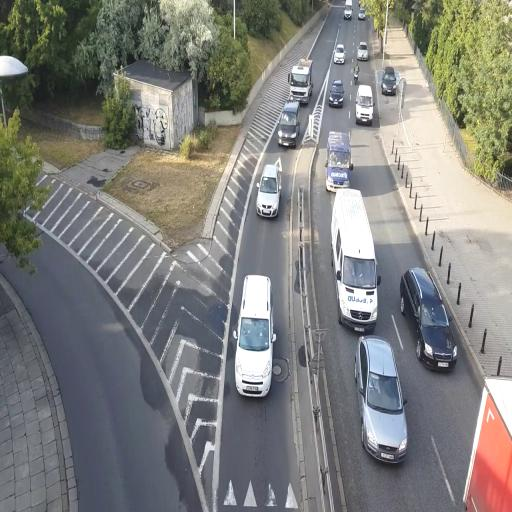vehicle: (355, 335, 409, 465), (331, 187, 379, 333), (463, 376, 512, 510), (399, 266, 457, 370), (234, 274, 274, 400), (416, 322, 458, 372), (326, 130, 352, 192), (256, 162, 281, 218), (278, 100, 300, 148), (289, 61, 313, 103), (290, 60, 312, 104), (355, 84, 375, 125), (380, 67, 399, 96), (328, 79, 344, 108), (333, 42, 346, 64), (357, 43, 368, 62), (343, 2, 354, 21)
